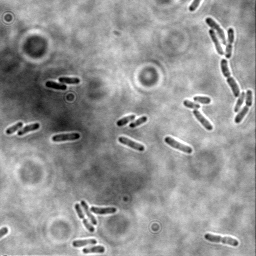Dividing: (73, 202, 96, 234), (204, 232, 240, 248)
Microcolony: (205, 16, 253, 124)
Rod: (163, 135, 194, 155), (192, 108, 214, 132), (117, 135, 146, 152), (80, 199, 98, 226), (17, 121, 41, 137), (51, 132, 82, 143), (114, 114, 136, 128), (129, 115, 149, 130), (4, 122, 24, 137), (43, 80, 68, 92), (71, 238, 98, 249), (90, 206, 119, 216), (182, 98, 202, 110), (81, 245, 106, 254), (56, 76, 81, 85), (192, 95, 213, 105)
